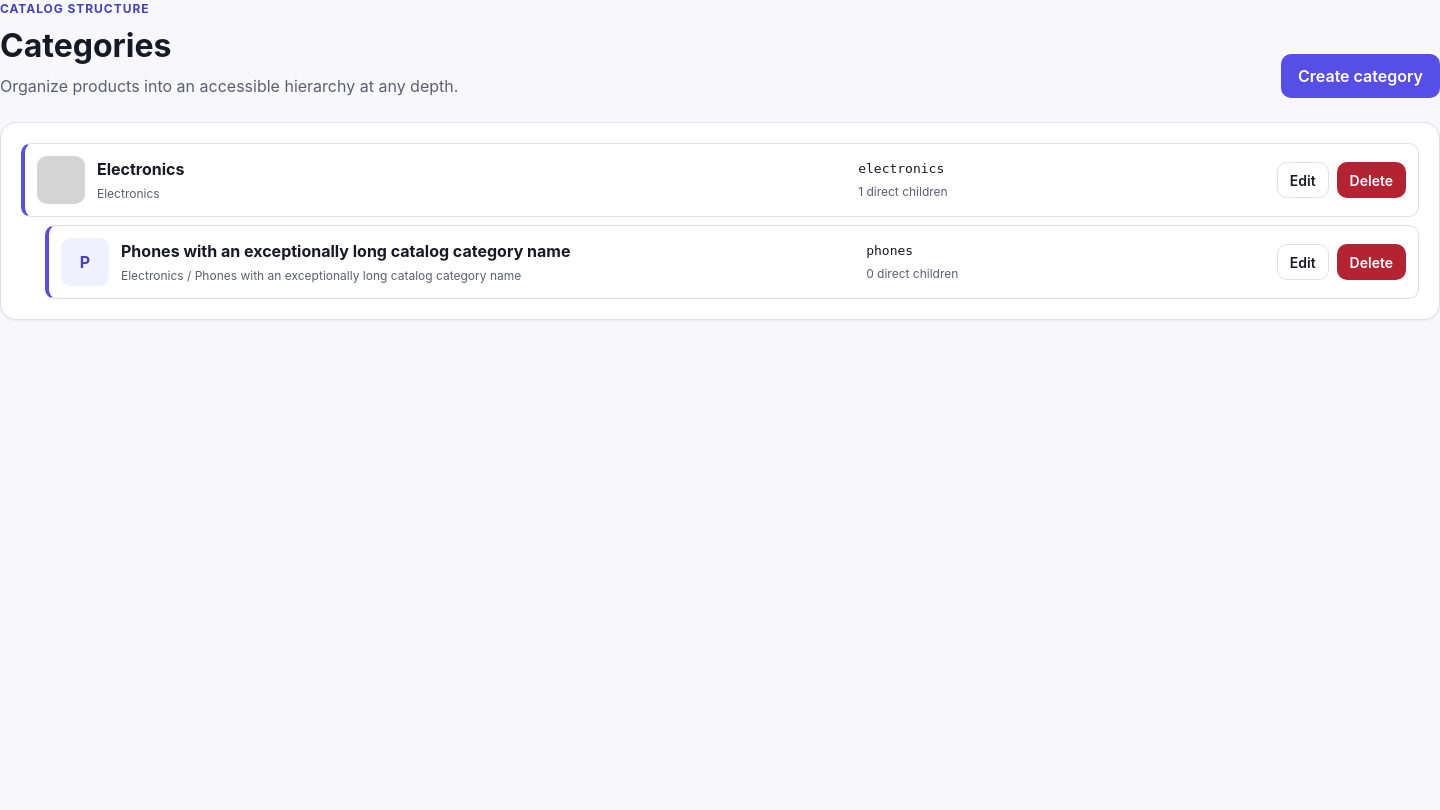
admin category management › prevents child-bearing deletes and explains product dependency failures
This screenshot has width=1440, height=810.
Click the 1st button "Delete" at (1371, 180), box x1=1337 y1=162 x2=1406 y2=198
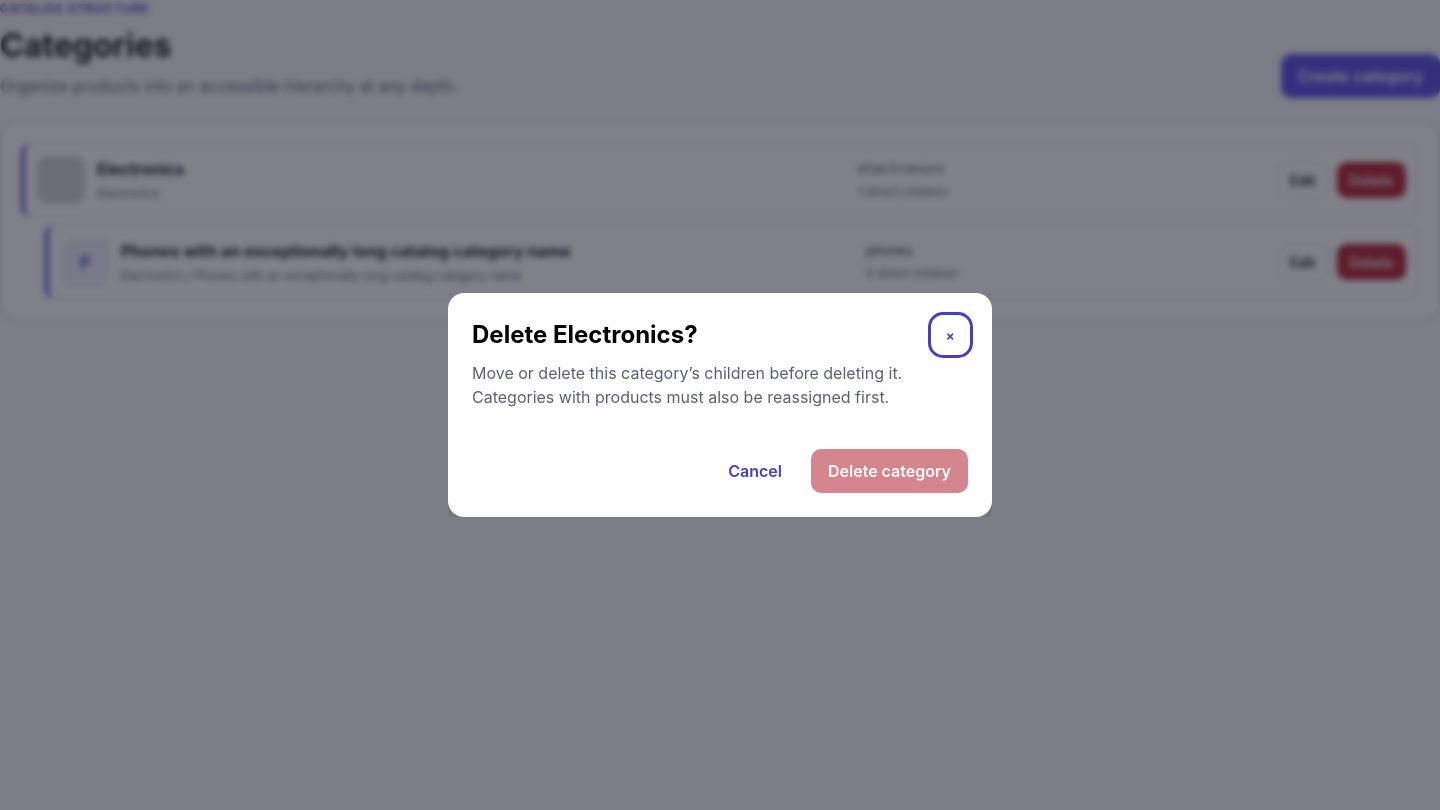
expect the button "Delete category" is disabled: met, box x1=811 y1=449 x2=968 y2=493
expect the dialog shows "Move or delete this category’s children": met, box x1=472 y1=363 x2=902 y2=407
Click the button "Cancel" at (755, 471), box x1=711 y1=449 x2=799 y2=493
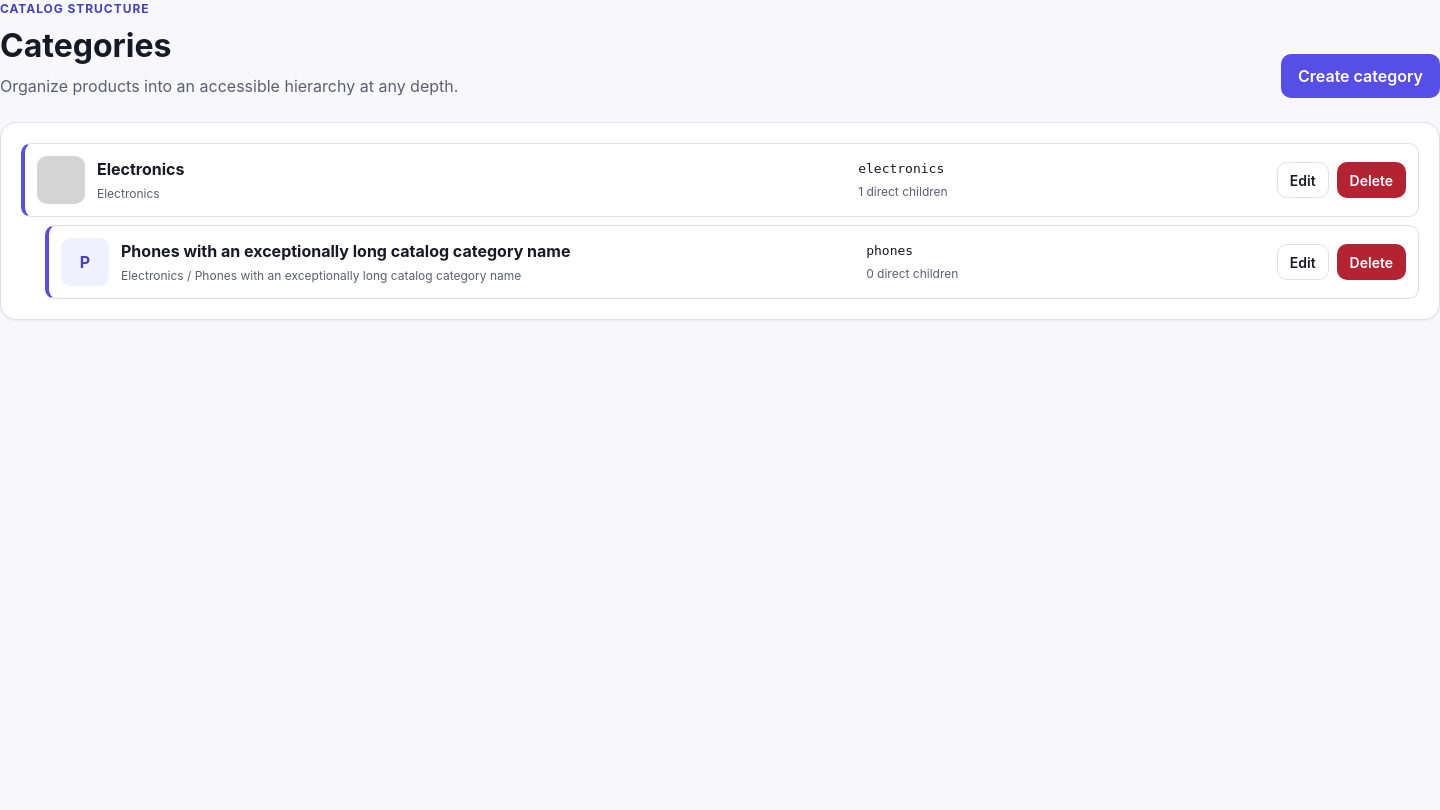
Click the 2nd button "Delete" at (1371, 262), box x1=1337 y1=244 x2=1406 y2=280
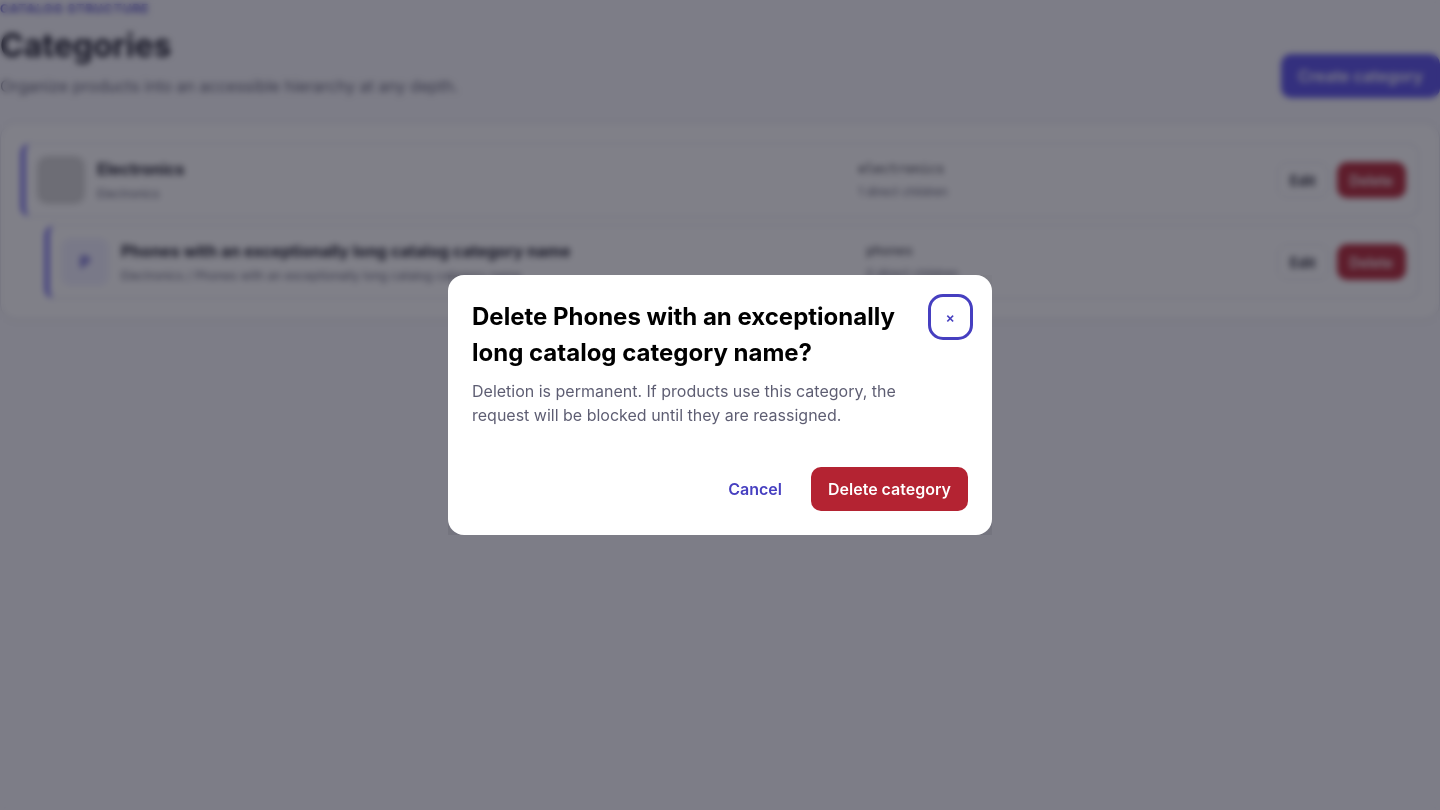
Click the button "Delete category" at (890, 489), box x1=811 y1=467 x2=968 y2=511
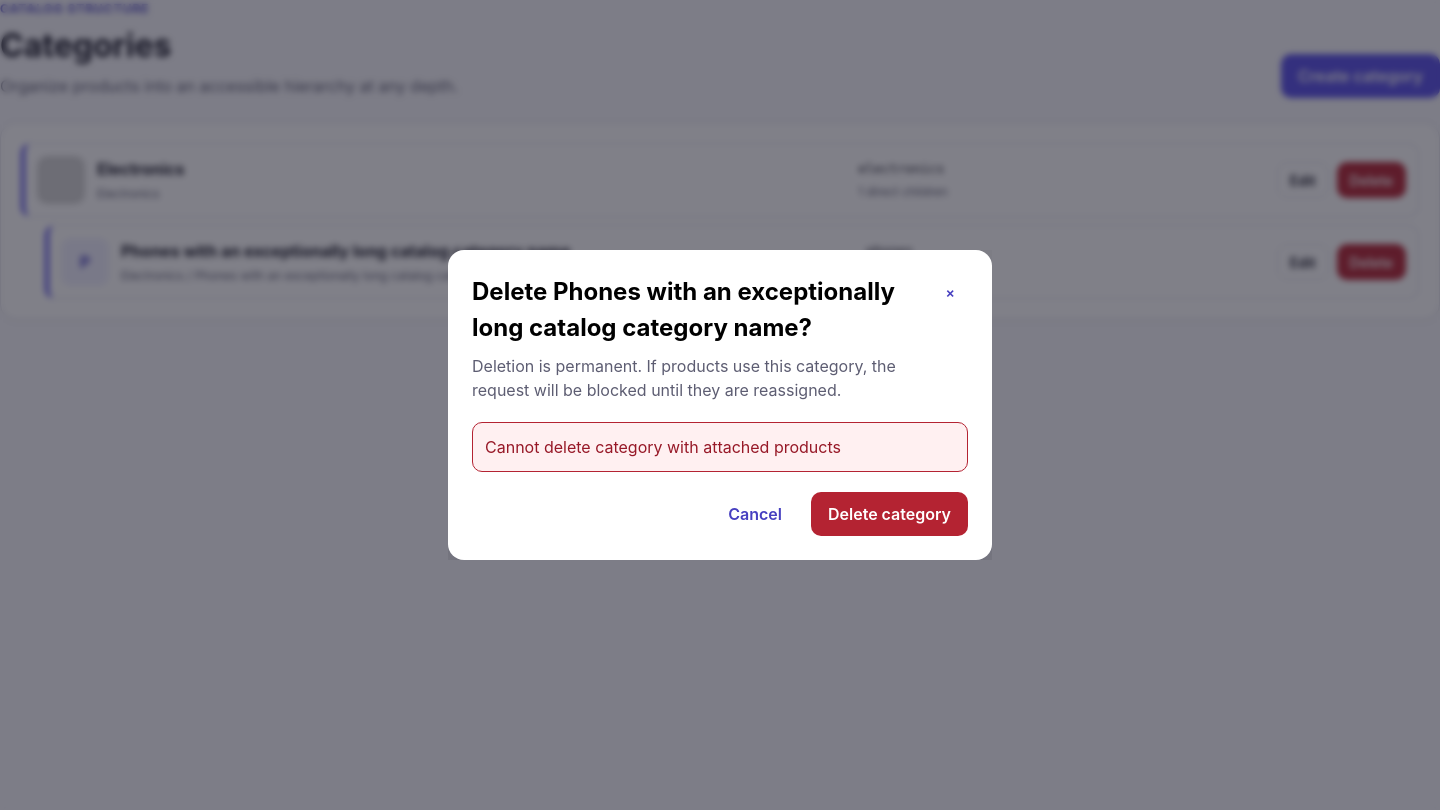
expect the message shows "attached products": met, box x1=485 y1=437 x2=841 y2=457
